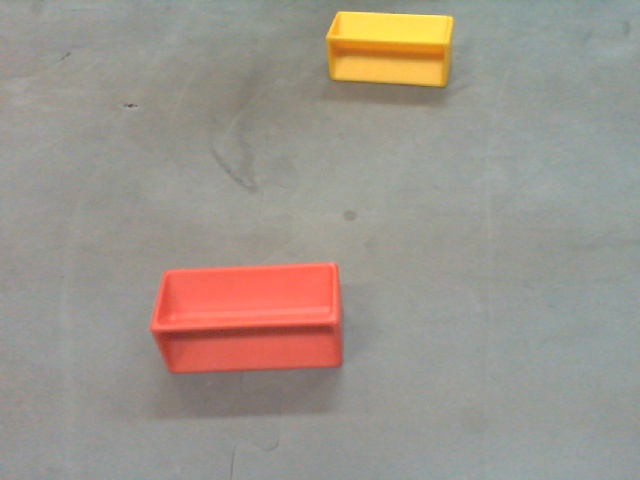RedSample: (149, 261, 346, 376)
YellowSample: (325, 8, 453, 89)
